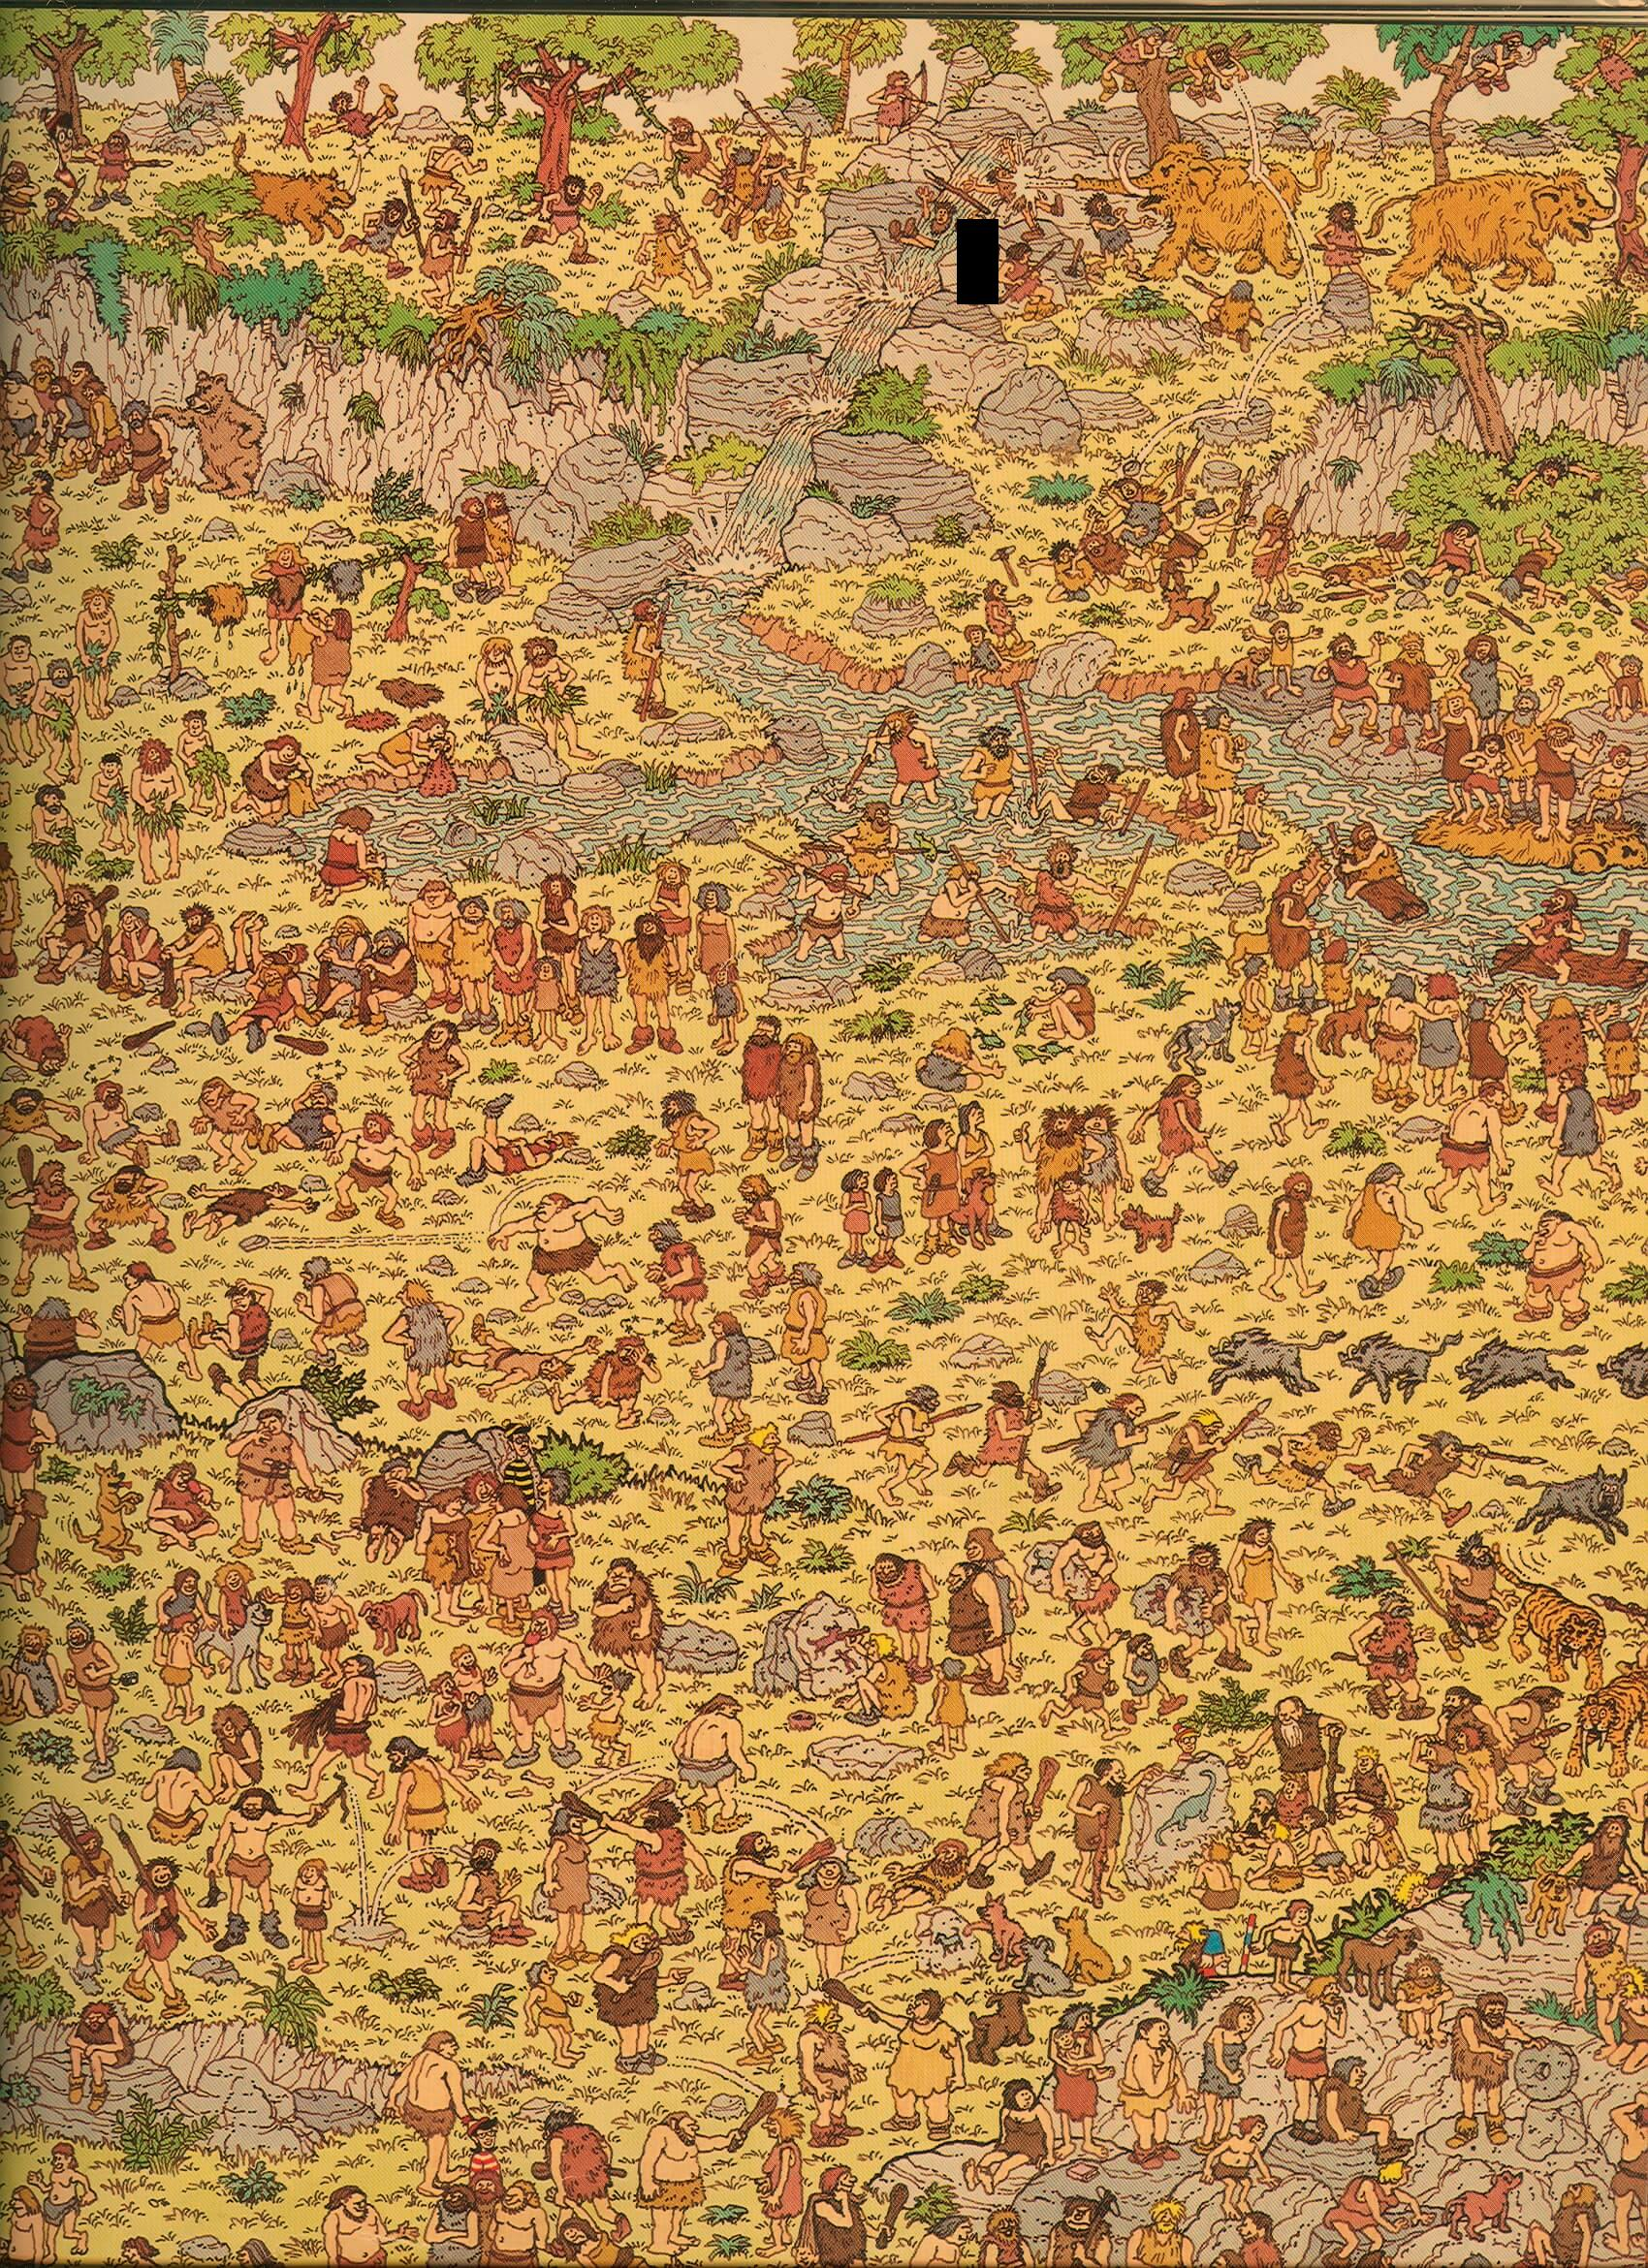waldos: (37, 102, 79, 188)
